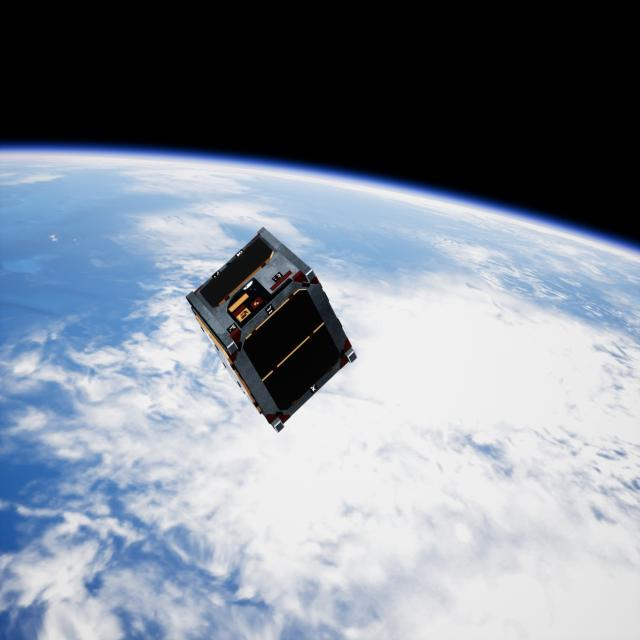medium_debris: (191, 220, 370, 433)
